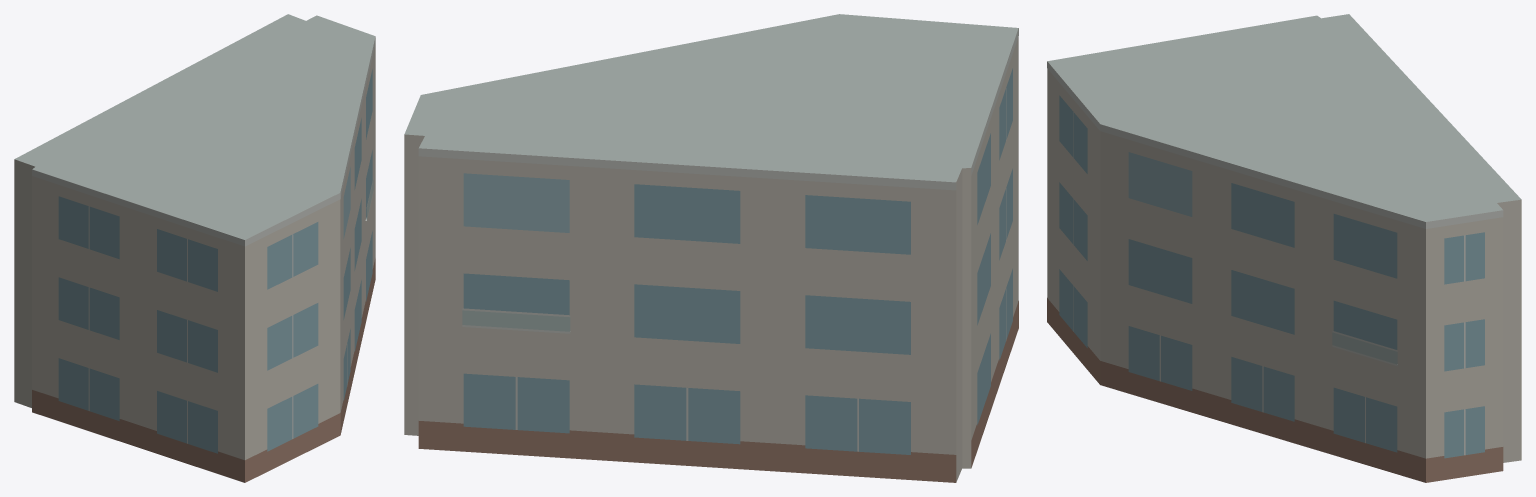
Rendered from survey-upis-32673802.glb.
3 views of the same model, side by side, from view 1: azimuth 30°, elevation 25°; view 2: azimuth 150°, elevation 25°; view 3: azimuth 270°, elevation 25° (orthographic). The views are drawn at different scales.
Parts seen in each view (by area): view 1: survey-upis-32673802.tmp; view 2: survey-upis-32673802.tmp; view 3: survey-upis-32673802.tmp.
Part boxes in pixels (box(x1,y1,x2,y2)): survey-upis-32673802.tmp: box(14, 14, 375, 482); survey-upis-32673802.tmp: box(404, 14, 1018, 482); survey-upis-32673802.tmp: box(1047, 14, 1521, 482).
Size of the model in its own units: 15.58 by 9.1 by 15.01.
